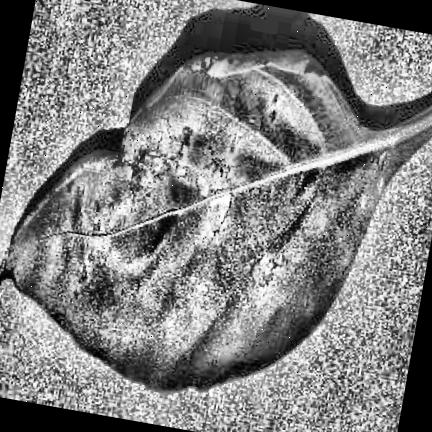leaf: (0, 52, 432, 391)
